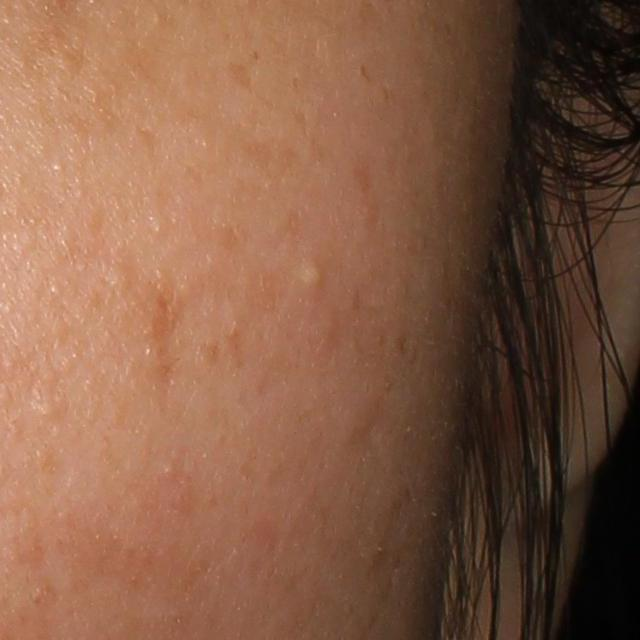atrophic_scar: (148, 280, 191, 412)
comedo: (291, 260, 322, 293), (34, 398, 62, 425), (148, 212, 170, 240), (157, 462, 181, 479)
melasma: (9, 3, 84, 73), (239, 137, 301, 175), (226, 57, 259, 92), (289, 104, 312, 143), (357, 61, 371, 82), (382, 84, 396, 104)
